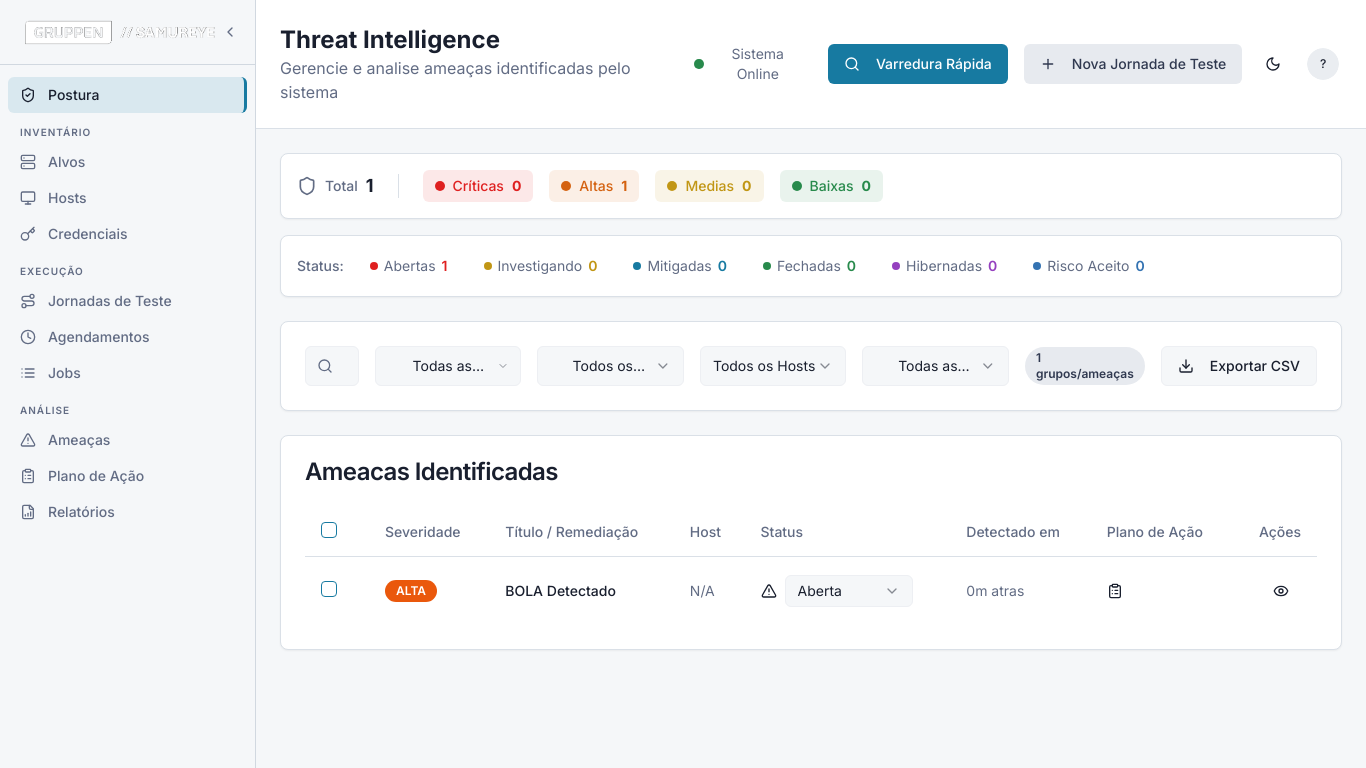
it: UI-04 — Curl Reproduction Dialog › Dialog opens when "Reproduzir" row action is clicked
This screenshot has width=1366, height=768.
Click the dropdown with test id "select-source-filter".
click(936, 366)  # box [862,346,1009,386]
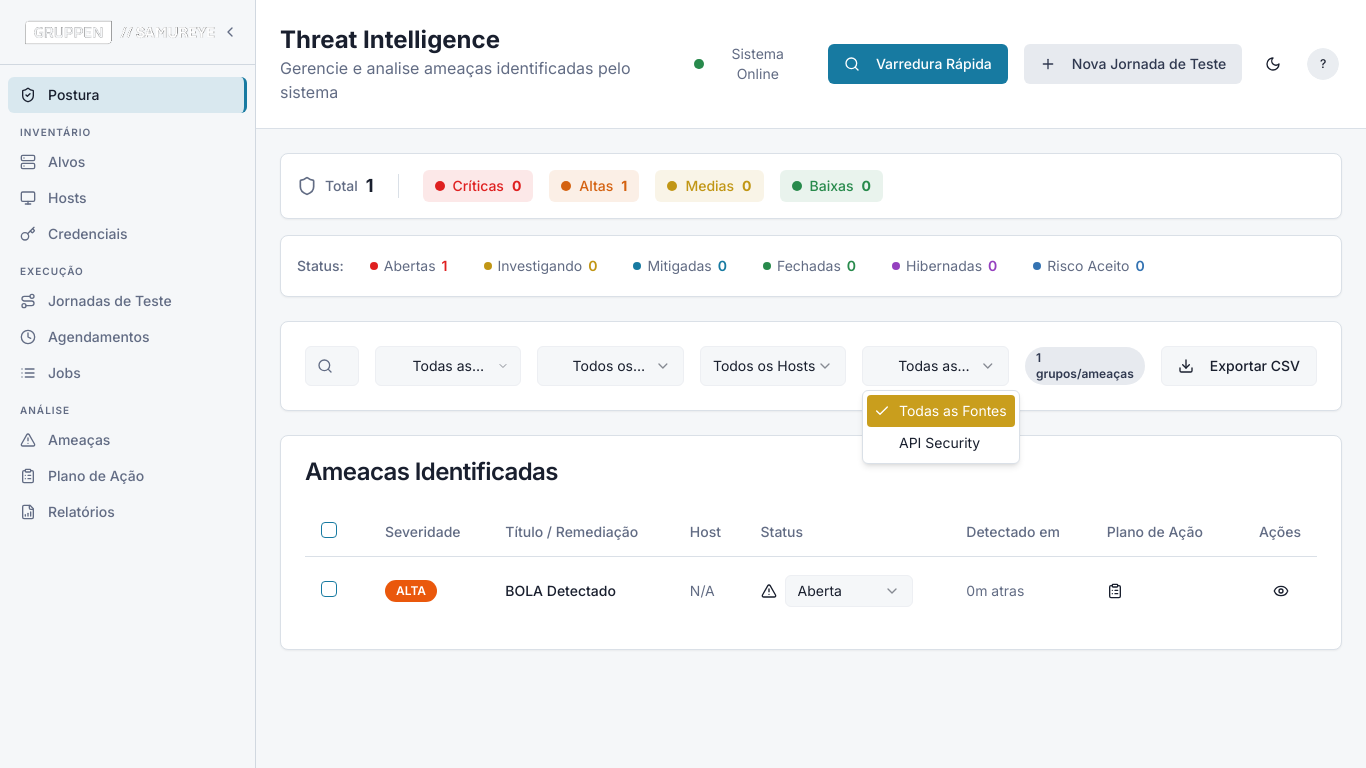
Click the option "API Security".
click(940, 442)  # box [899,434,980,451]
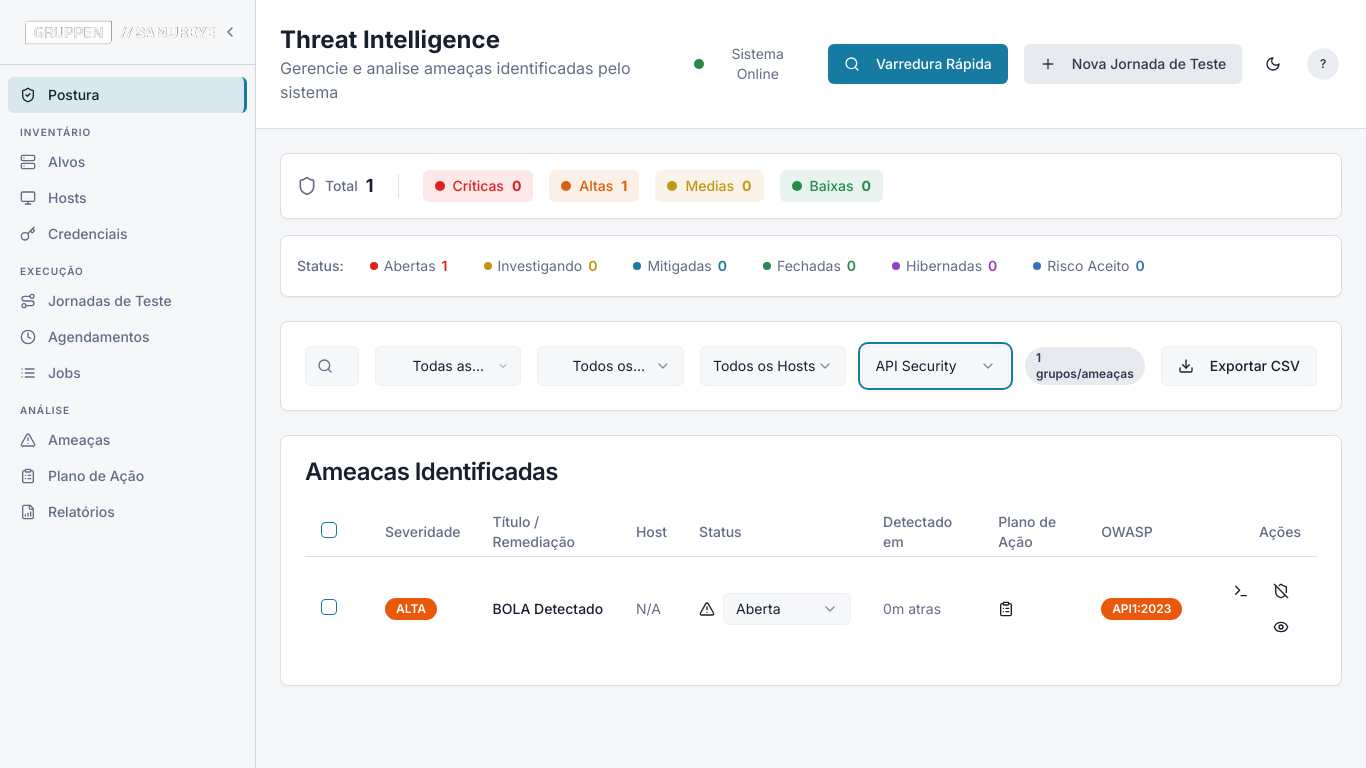
Click the button with test id "button-reproduce-t1".
click(1241, 590)  # box [1221,572,1261,608]
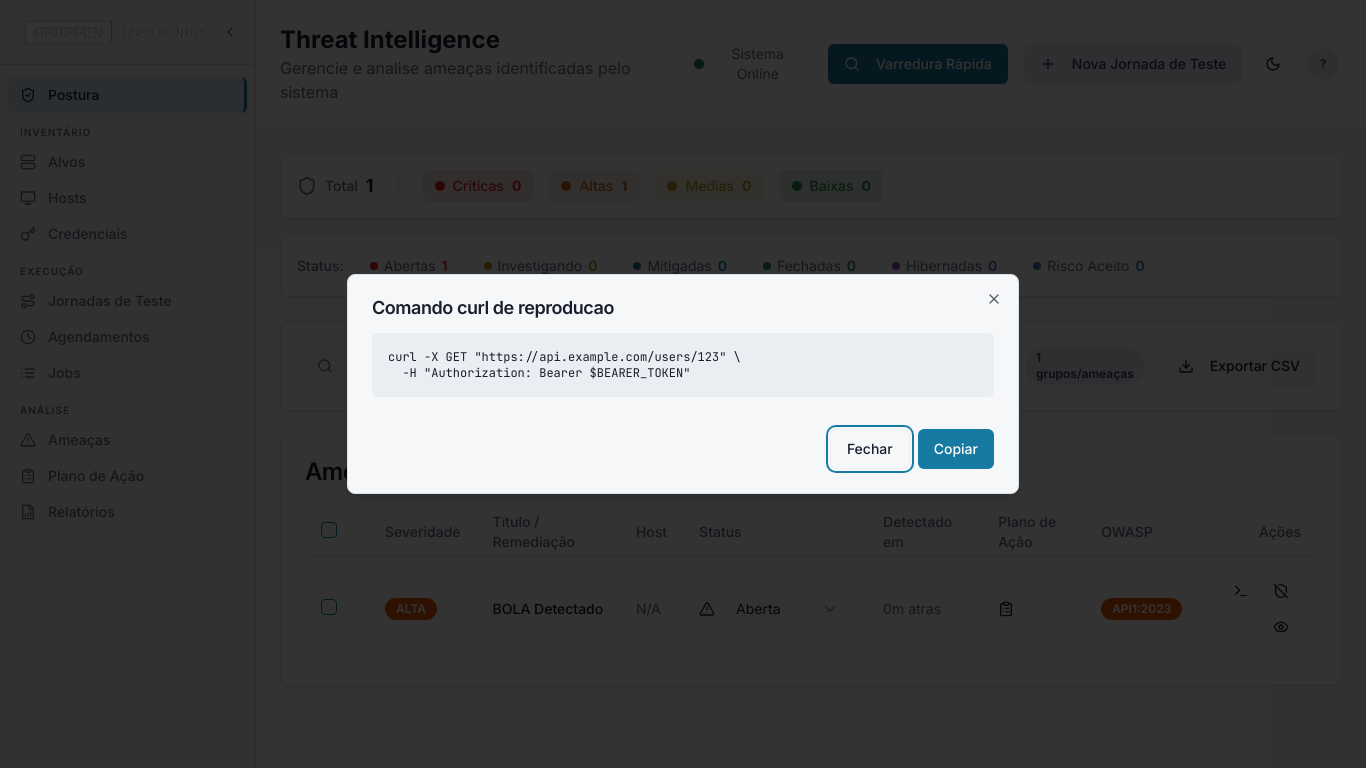
Expected: the dialog with test id "dialog-curl" is shown, [347,274,1019,494]
